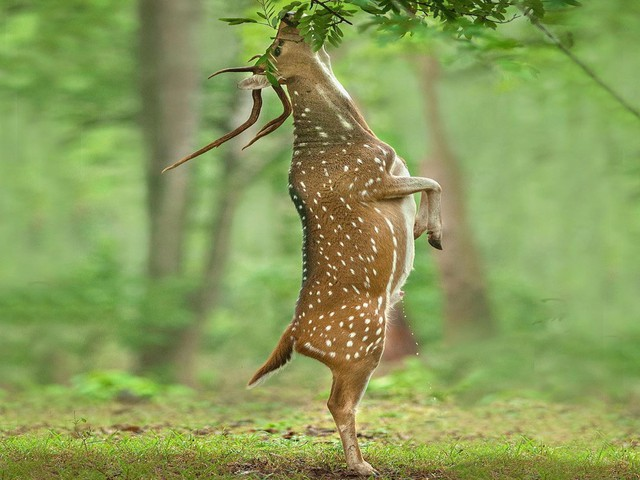deer: (163, 10, 446, 474)
